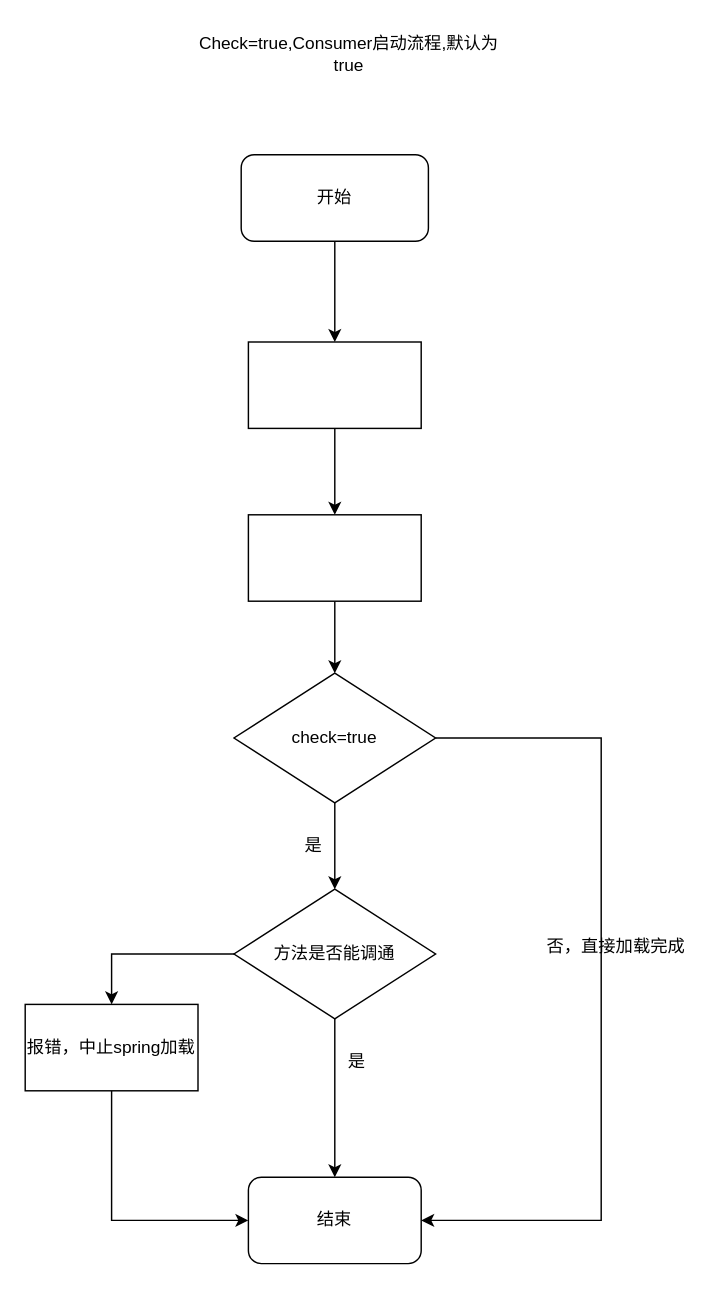
Some shapes in this 720 by 1289 pixel diagram are drawn without their labels. The centre of each missing label's shape, as x and y in pixels:
"加载refrence" belongs at point (334, 557).
"启动Consumer" belongs at point (334, 384).
